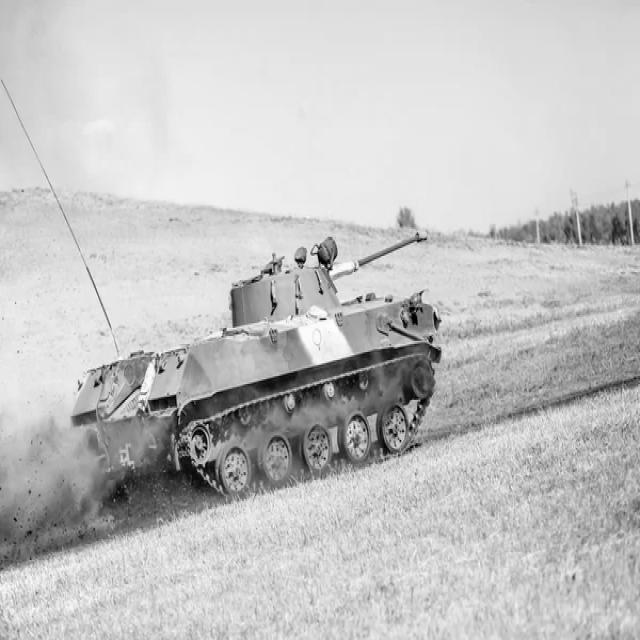Tank: (70, 218, 447, 518)
